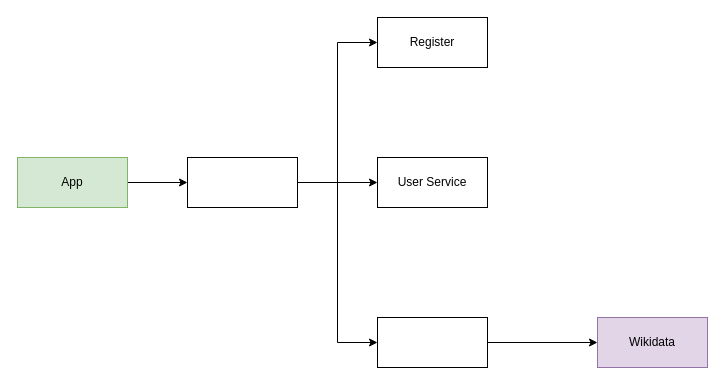
The diagram is 725 pixels wide and 385 high, and some of its shapes have lost their labels. The shapes that lost their labels are listed below. From the top down, each one's centre as x and y in pixels, then its label:
(242,182): Link
(432,342): Question Generator
